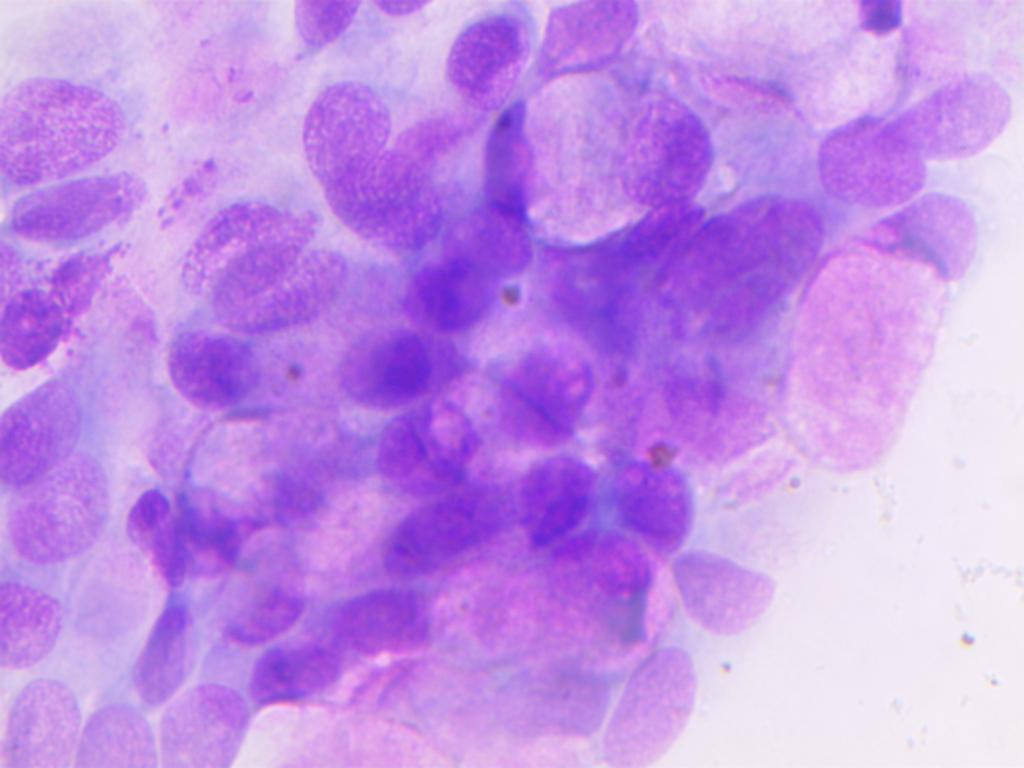epithelial: (775, 256, 935, 473), (654, 182, 821, 341), (0, 67, 151, 202), (0, 161, 177, 261), (599, 642, 726, 767), (322, 143, 458, 253), (293, 67, 407, 197), (886, 60, 1018, 168), (588, 95, 713, 207), (837, 186, 989, 277), (376, 483, 519, 573), (326, 570, 443, 674), (538, 0, 671, 90), (0, 371, 102, 487), (3, 476, 122, 574), (803, 111, 926, 205), (424, 9, 533, 111), (669, 547, 778, 645), (238, 634, 363, 719), (150, 329, 276, 413), (154, 672, 258, 768), (432, 196, 540, 279), (610, 454, 701, 551), (5, 274, 82, 384), (2, 571, 79, 676), (78, 696, 156, 768), (280, 0, 371, 54)
goblet_cell: (433, 340, 598, 499), (172, 199, 323, 297), (350, 409, 489, 504)
metaplastic: (501, 442, 609, 563), (397, 251, 532, 336), (324, 326, 440, 413), (822, 0, 911, 50)
neutrophil: (122, 480, 247, 586)
